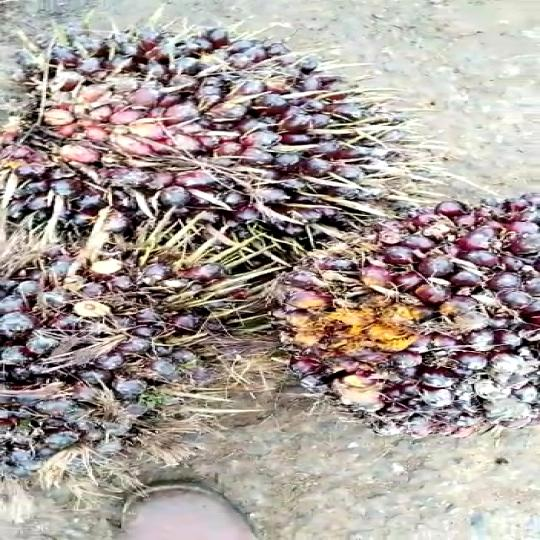kurang masak: (32, 21, 375, 321), (262, 196, 540, 427), (0, 238, 196, 493)
